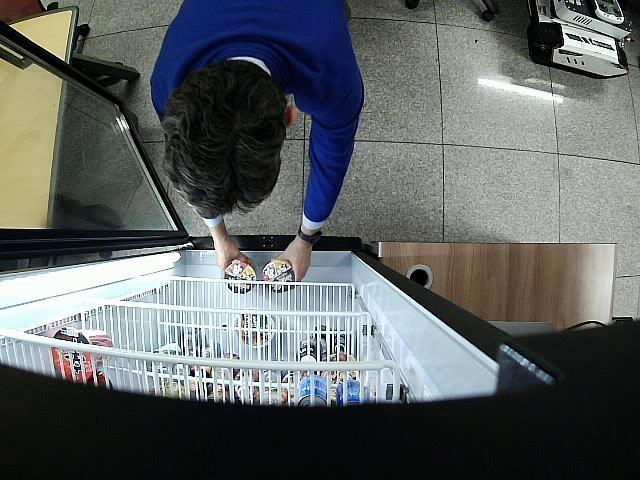08_buldak_S: (225, 260, 258, 294), (262, 259, 296, 292)
